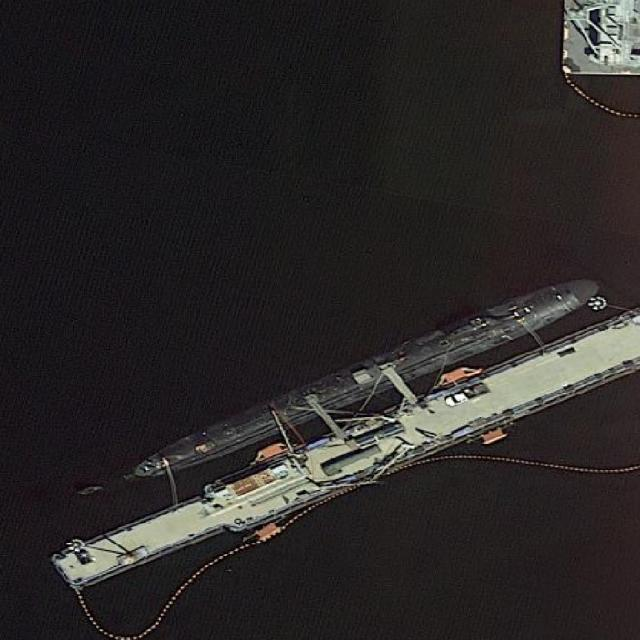Dock: (47, 320, 634, 599)
Submarine: (131, 266, 610, 489)
